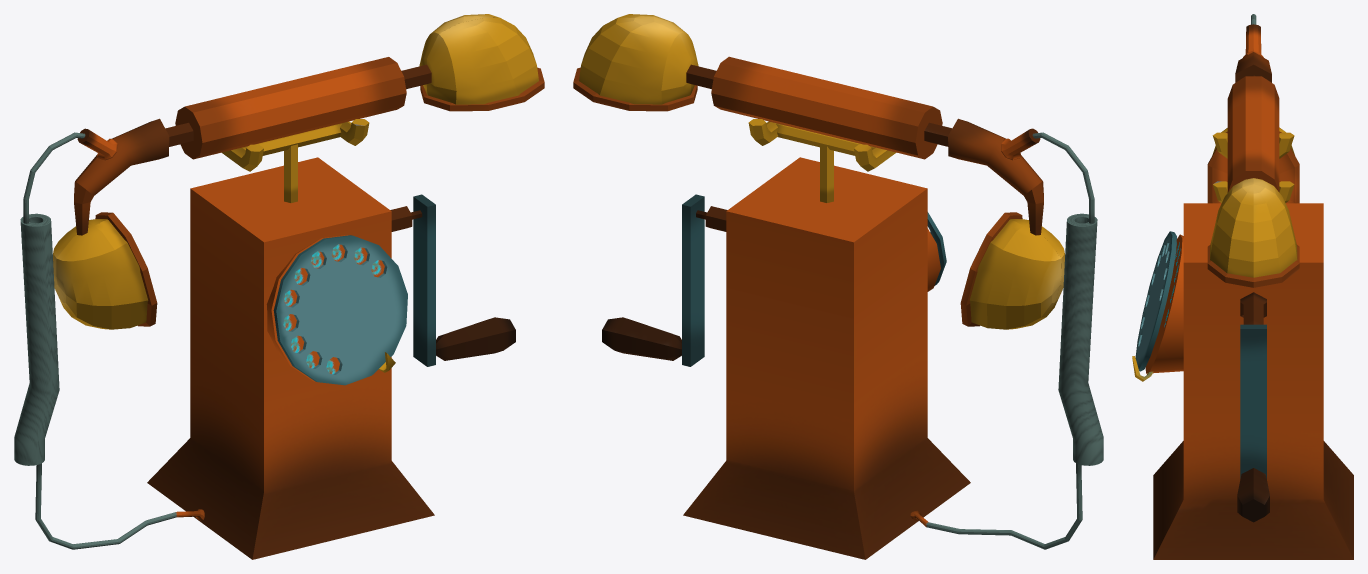
Rendered from phone desu.fbx.
3 renders of one model, left to right at view 1: azimuth 30°, elevation 25°; view 2: azimuth 150°, elevation 25°; view 3: azimuth 270°, elevation 25°, orthographic. The views are drawn at different scales.
Visible parts, largest first — view 1: pCube1, pCylinder27, pCylinder3, pSphere5, pSphere6, pCylinder29, pCone2, pCube3, pCylinder17, pCylinder31, pTorus5, pCylinder2 (+5 smaller); view 2: pCube1, pCylinder3, pSphere5, pSphere6, pCylinder29, pCone2, pCube3, pCylinder31, pTorus5, pCylinder2, pCylinder4, pCylinder1 (+3 smaller); view 3: pCube1, pSphere5, pCylinder3, pCube3, pCylinder17, pCylinder27, pSphere6, pCylinder31, pCone2, pCylinder30, pTorus2, pTorus1 (+1 smaller).
Boxes of the visible parts, x1,y1,x2,y2 form: pCube1: [147, 157, 434, 559]; pCylinder27: [273, 235, 407, 385]; pCylinder3: [175, 57, 406, 159]; pSphere5: [419, 14, 544, 111]; pSphere6: [53, 212, 157, 329]; pCylinder29: [14, 213, 59, 465]; pCone2: [74, 118, 169, 235]; pCube3: [413, 194, 435, 366]; pCylinder17: [266, 235, 384, 381]; pCylinder31: [436, 317, 515, 360]; pTorus5: [35, 463, 204, 549]; pCylinder2: [243, 123, 341, 155]; pCube1: [683, 157, 970, 559]; pCylinder3: [711, 56, 942, 159]; pSphere5: [573, 14, 698, 111]; pSphere6: [960, 212, 1065, 329]; pCylinder29: [1058, 213, 1103, 465]; pCone2: [948, 118, 1043, 235]; pCube3: [682, 194, 704, 366]; pCylinder31: [602, 317, 681, 360]; pTorus5: [910, 463, 1082, 549]; pCylinder2: [776, 123, 874, 155]; pCylinder4: [686, 64, 951, 146]; pCylinder1: [820, 144, 833, 202]; pCube1: [1153, 203, 1353, 559]; pSphere5: [1207, 178, 1299, 287]; pCylinder3: [1227, 76, 1279, 192]; pCube3: [1240, 324, 1266, 478]; pCylinder17: [1145, 234, 1183, 373]; pCylinder27: [1135, 231, 1176, 371]; pSphere6: [1207, 127, 1299, 203]; pCylinder31: [1237, 468, 1269, 522]; pCone2: [1235, 52, 1271, 82]; pCylinder30: [1240, 292, 1266, 324]; pTorus2: [1212, 132, 1294, 158]; pTorus1: [1213, 181, 1294, 202].
Size of the model in its own units: 2.93 by 2.32 by 1.13.
Materials: 1 (1 with a texture image).
